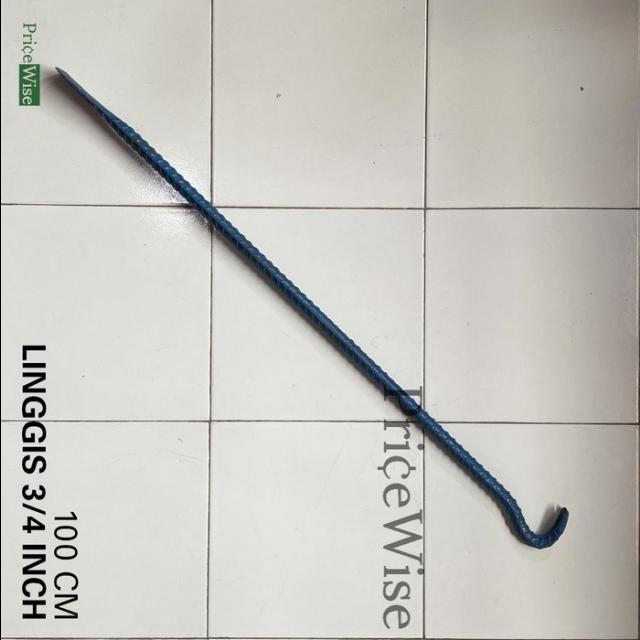Linggis: (50, 68, 572, 551)
